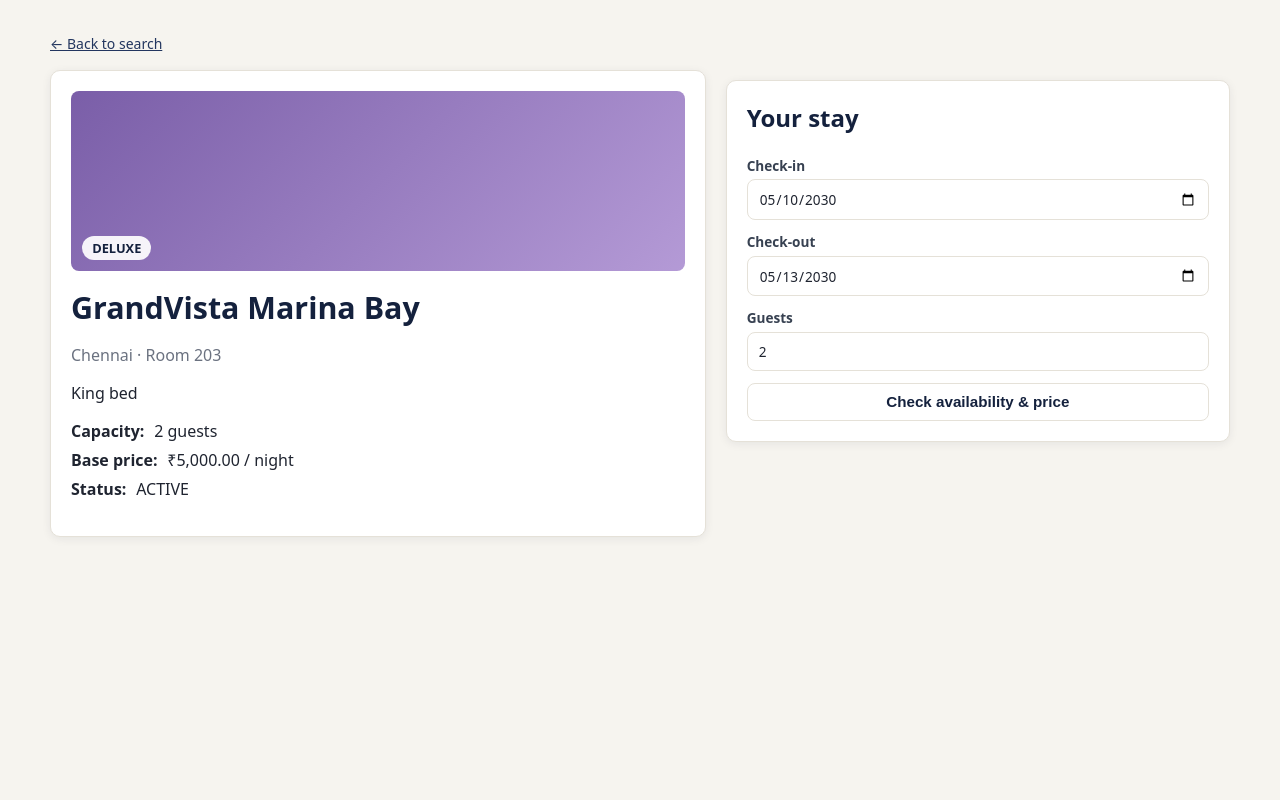
Scenario: RoomDetailsPage › reports an unavailable room instead of offering to reserve it
Expected: the heading "GrandVista Marina Bay" is shown, [71,287,420,328]
Click the button "Check availability & price": click(978, 402) [747,383,1209,421]
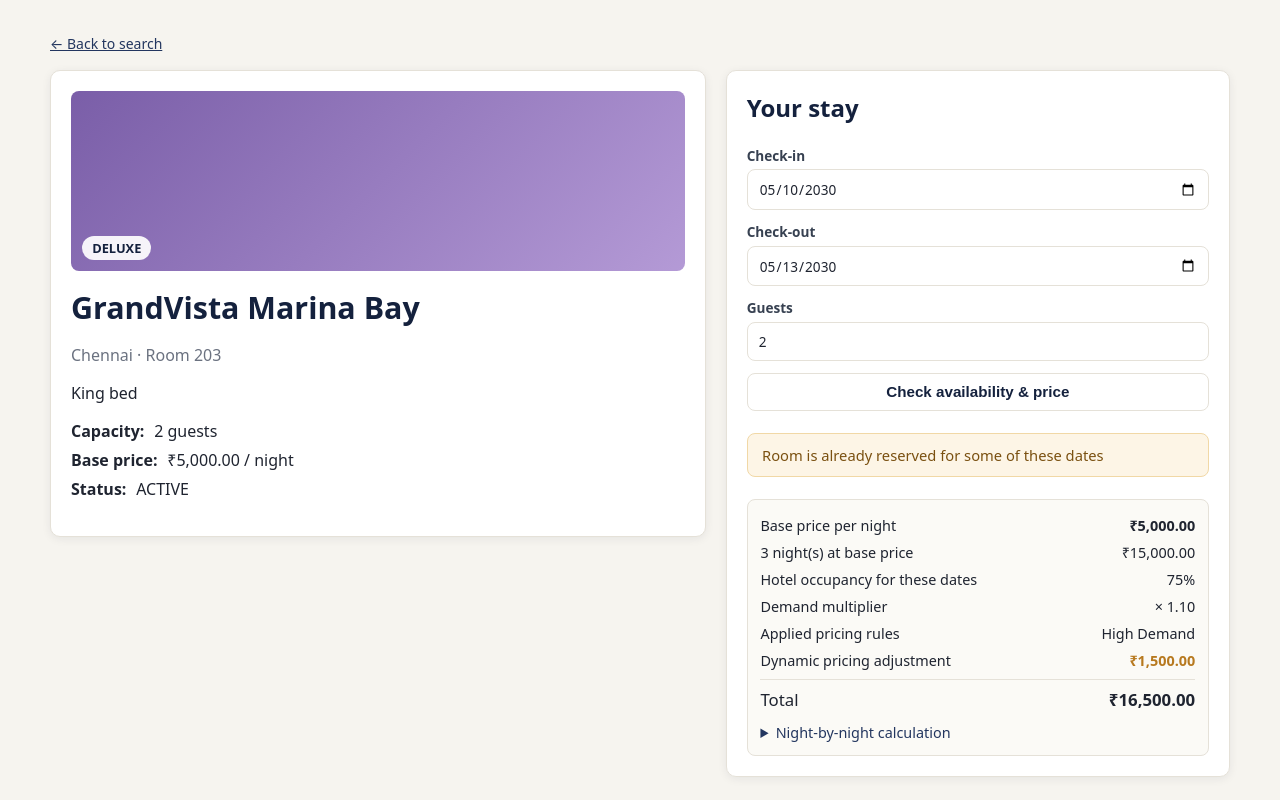
Expected: the text "Room is already reserved for some of these dates" is shown, [762,445,1104,465]
